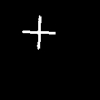single_crochet: (22, 16, 54, 48)
